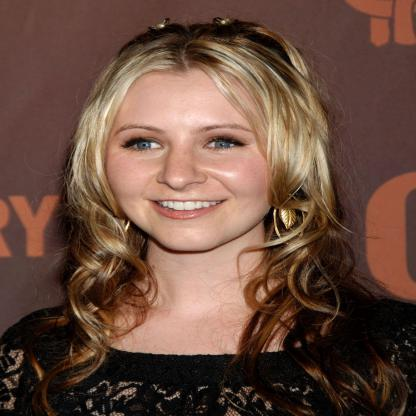long-hair: (46, 254, 365, 339)
